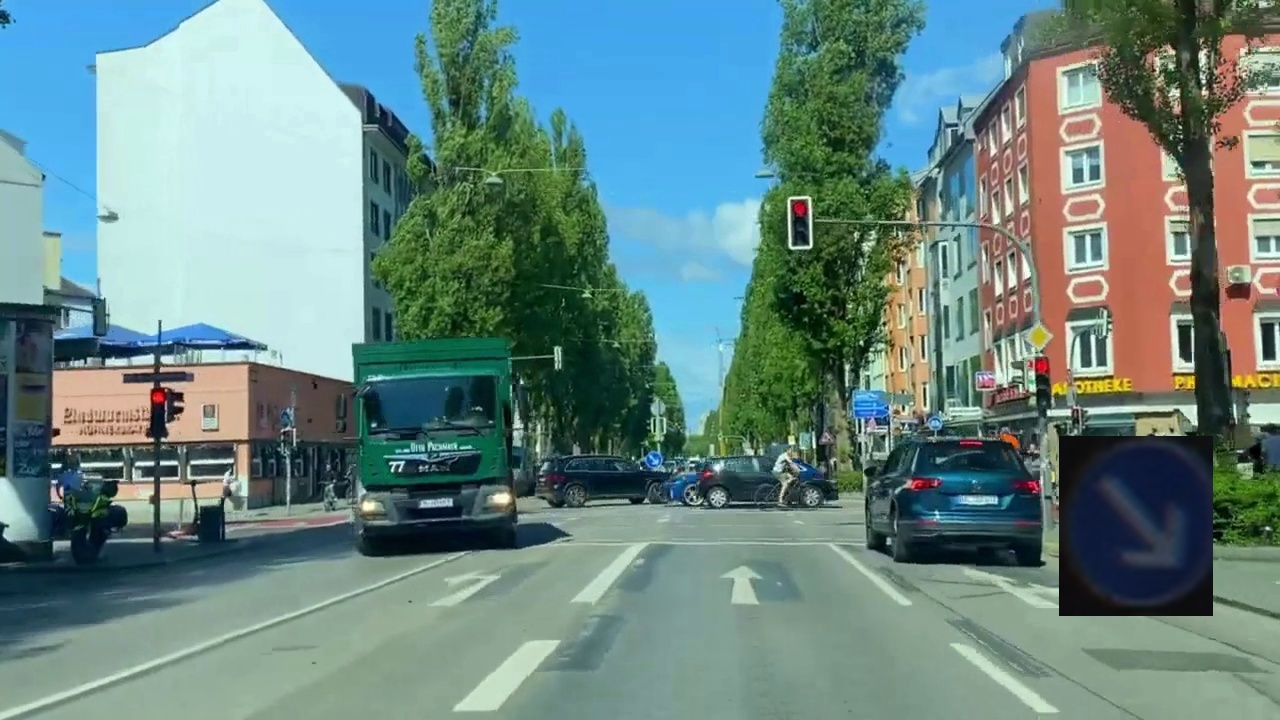Keep right: (1059, 436, 1213, 616)
